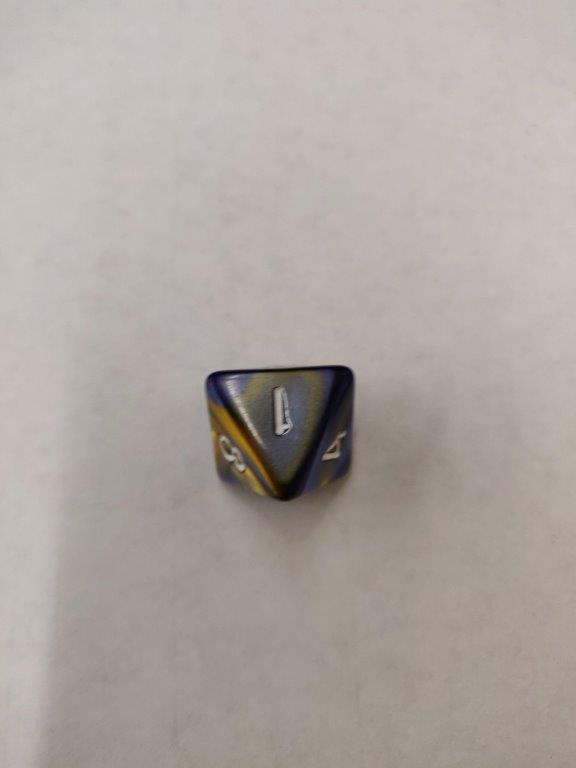d8-1: (208, 365, 357, 486)
